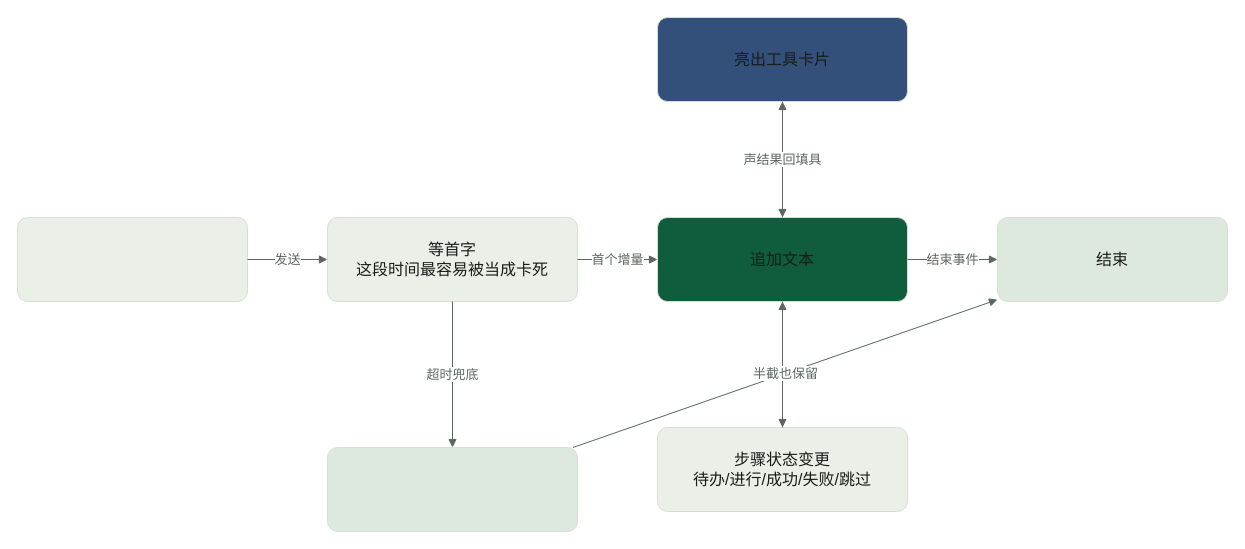
The diagram is 1245 pixels wide and 549 high, and some of its shapes have lost their labels. Each missing label, with the centre of its shape:
"出错/被停止 也要落一条记录" belongs at point 452,489.
"空闲" belongs at point 132,259.
